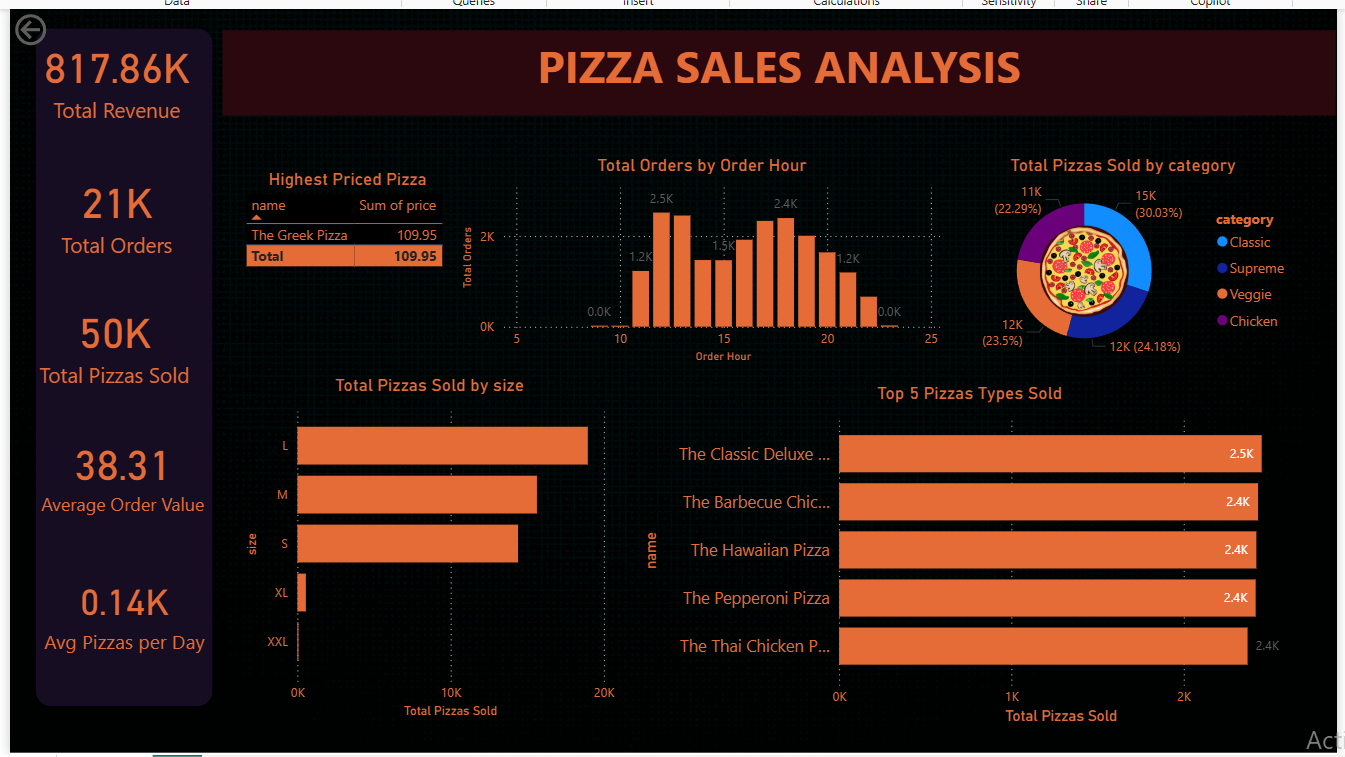

Layout of this report page (visuals, bound fields, positions):
{"tool":"powerbi","page":{"name":"Page 1","canvas":[1280,720],"ordinal":0},"visuals":[{"type":"shape","title":"BG_LeftPanel_DO_NOT_TOUCH","box":[15.3,10.2,188.9,672.3],"z":0},{"type":"card","fields":{"Values":["order_details.Total Revenue"]},"box":[15.3,10.2,175.3,114],"z":1000},{"type":"card","fields":{"Values":["order_details.Total Pizzas Sold"]},"box":[13.6,265.5,175.3,114],"z":2000},{"type":"card","fields":{"Values":["order_details.Total Orders"]},"box":[15.3,139.6,175.3,114],"z":3000},{"type":"card","fields":{"Values":["order_details.Average Order Value"]},"box":[20.4,391.5,177,114],"z":4000},{"type":"tableEx","title":"Highest Priced Pizza","fields":{"Values":["pizza_types.name","Sum(pizzas.price)"]},"box":[222,141,208.1,180],"z":5000},{"type":"clusteredBarChart","fields":{"Category":["pizzas.size"],"Y":["order_details.Total Pizzas Sold"]},"box":[222.4,352.1,366.3,336.4],"z":6000},{"type":"clusteredBarChart","title":"Top 5 Pizzas Types Sold","fields":{"Category":["pizza_types.name"],"Y":["order_details.Total Pizzas Sold"]},"box":[605.8,360.6,641.4,335],"z":7000},{"type":"donutChart","fields":{"Category":["pizza_types.category"],"Y":["order_details.Total Pizzas Sold"]},"box":[905.1,139.7,339.2,206.7],"z":8000},{"type":"clusteredColumnChart","fields":{"Category":["orders.Order Hour"],"Y":["order_details.Total Orders"]},"box":[430.5,139.7,474.7,206.7],"z":9000},{"type":"card","fields":{"Values":["order_details.Avg Pizzas per Day"]},"box":[20.4,520.9,180.4,122.6],"z":10000},{"type":"textbox","box":[205.3,20,1074.7,82.7],"z":11000},{"type":"image","box":[989.2,191,95.5,125.4],"z":12000},{"type":"actionButton","box":[0,0,100,40],"z":13000}]}

Visuals, with their boxes on the page's 1280x720 design canvas (x1, y1, x2, y2). These are canvas units, not pixel positions in the 1345x757 screenshot, which may show the page scaled, cropped or inside an application window:
"BG_LeftPanel_DO_NOT_TOUCH" shape: rect(15, 10, 204, 682)
card - order_details.Total Revenue: rect(15, 10, 191, 124)
card - order_details.Total Pizzas Sold: rect(14, 266, 189, 380)
card - order_details.Total Orders: rect(15, 140, 191, 254)
card - order_details.Average Order Value: rect(20, 392, 197, 506)
"Highest Priced Pizza" tableEx: rect(222, 141, 430, 321)
clusteredBarChart - pizzas.size x order_details.Total Pizzas Sold: rect(222, 352, 589, 688)
"Top 5 Pizzas Types Sold" clusteredBarChart: rect(606, 361, 1247, 696)
donutChart - pizza_types.category x order_details.Total Pizzas Sold: rect(905, 140, 1244, 346)
clusteredColumnChart - orders.Order Hour x order_details.Total Orders: rect(430, 140, 905, 346)
card - order_details.Avg Pizzas per Day: rect(20, 521, 201, 644)
textbox: rect(205, 20, 1280, 103)
image: rect(989, 191, 1085, 316)
actionButton: rect(0, 0, 100, 40)
